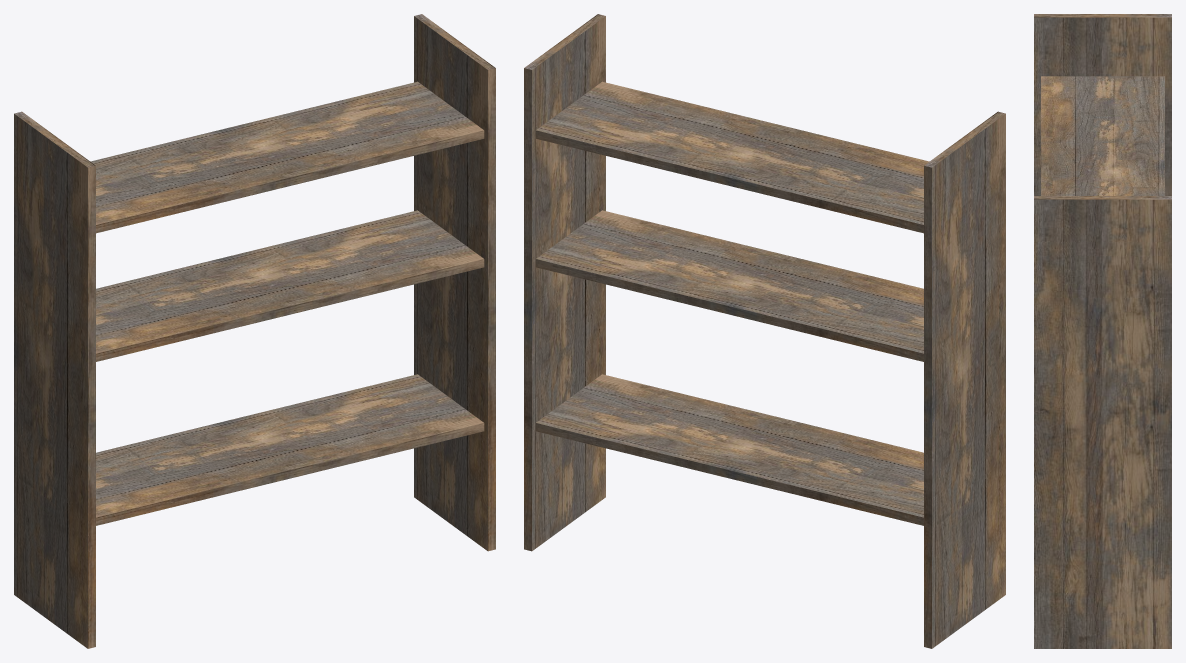
Rendered from shelf.glb.
3 renders of one model, left to right at view 1: azimuth 30°, elevation 25°; view 2: azimuth 150°, elevation 25°; view 3: azimuth 270°, elevation 25°, orthographic. The views are drawn at different scales.
Visible parts, largest first — view 1: etagere; view 2: etagere; view 3: etagere.
Part boxes in pixels (left/top/right/bottom): etagere: left=14, top=14, right=495, bottom=648; etagere: left=524, top=14, right=1005, bottom=648; etagere: left=1034, top=14, right=1171, bottom=648.
Bounding box in the file's own units: 1.02 × 1.15 × 0.32.
Materials: 1 (1 with a texture image).
